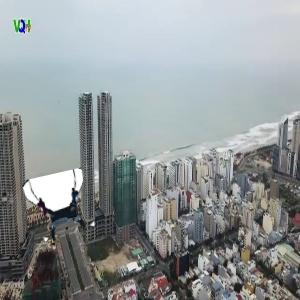drone: (27, 174, 98, 245)
